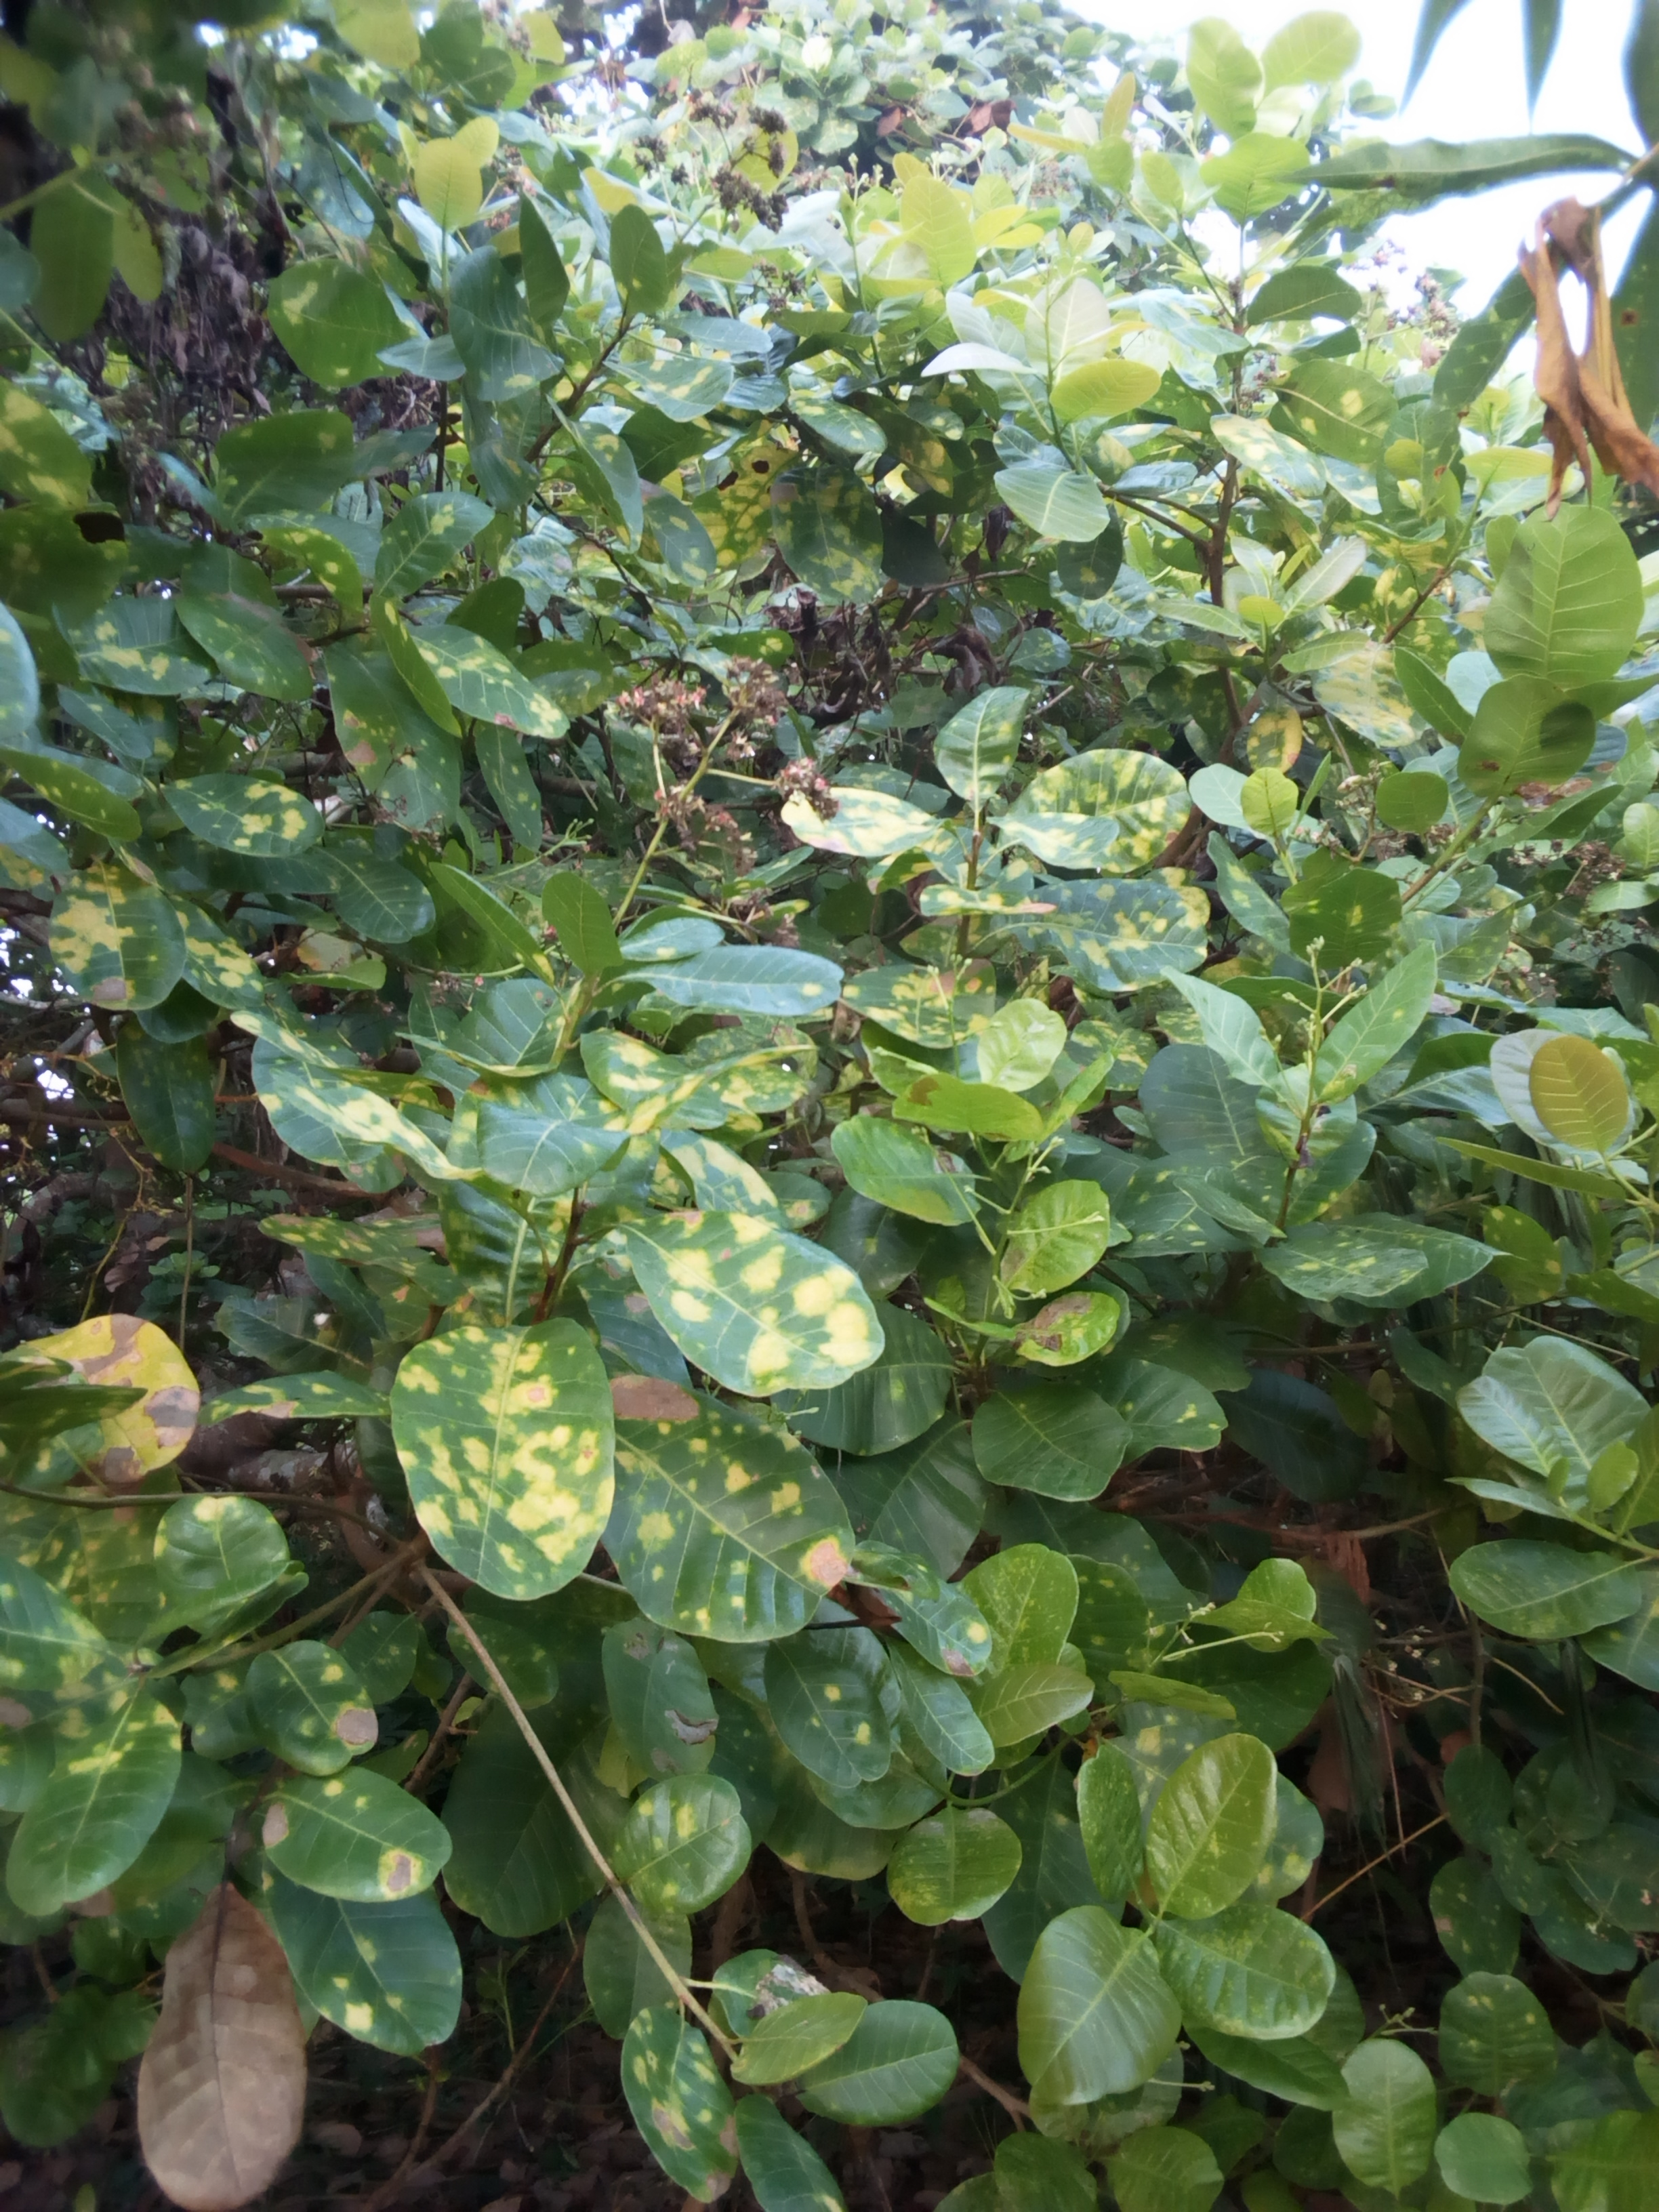Carence minérale: (382, 1296, 636, 1622), (617, 1390, 880, 1644), (619, 1214, 894, 1404), (324, 597, 504, 855), (12, 1693, 183, 1912), (244, 1059, 491, 1195), (16, 1303, 213, 1468), (1290, 934, 1467, 1116), (1009, 862, 1229, 1005), (819, 934, 1023, 1078), (1019, 733, 1209, 883), (606, 1763, 769, 1916), (54, 575, 244, 705), (758, 449, 901, 622), (1300, 615, 1453, 766), (54, 845, 188, 1012), (920, 665, 1042, 834), (159, 758, 338, 869), (1267, 350, 1425, 472), (640, 493, 758, 632), (545, 425, 671, 550)
